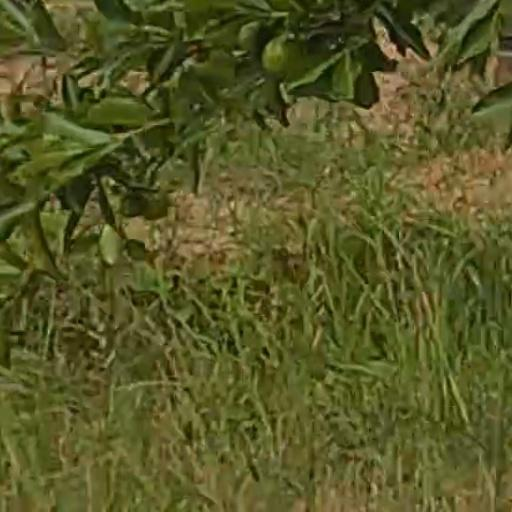acerola_verde: (266, 39, 299, 76)
